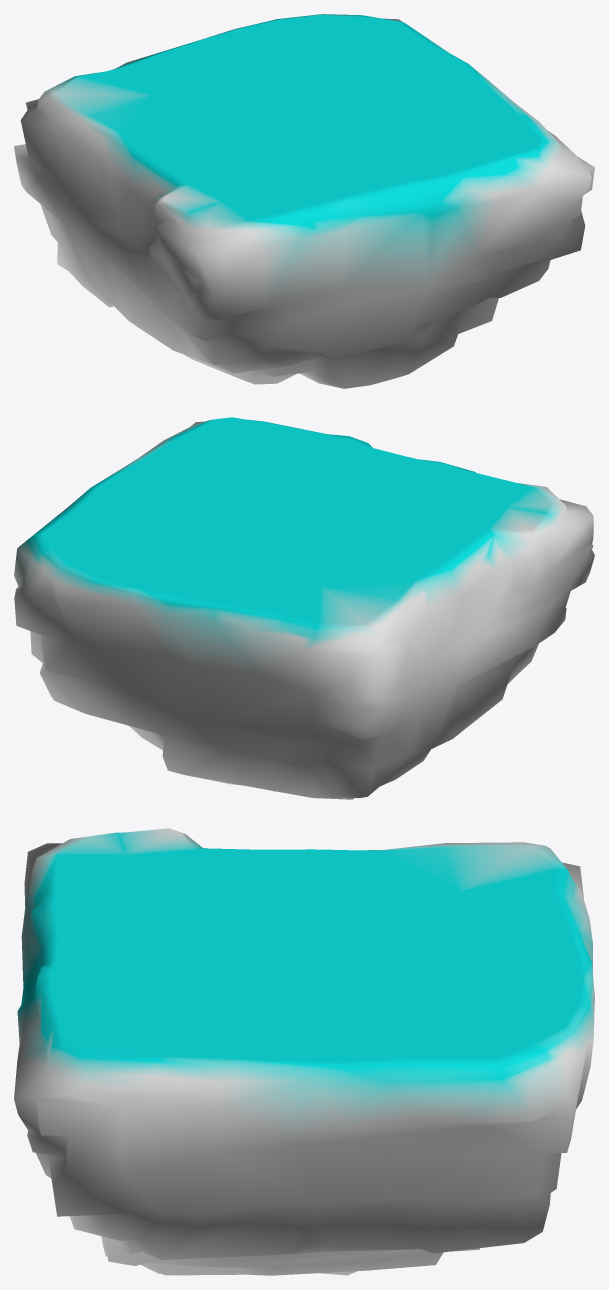
Rendered from Homeworld_Exterior_Common_Rockery_09_Lod0.fbx.
The picture shows the model from 3 angles, top to bottom: view 1: azimuth 30°, elevation 25°; view 2: azimuth 150°, elevation 25°; view 3: azimuth 270°, elevation 25°; orthographic projection. The views are drawn at different scales.
Visible parts, largest first — view 1: Homeworld_Exterior_Common_Rockery_09_Lod0; view 2: Homeworld_Exterior_Common_Rockery_09_Lod0; view 3: Homeworld_Exterior_Common_Rockery_09_Lod0.
Boxes of the visible parts, x1,y1,x2,y2 form: Homeworld_Exterior_Common_Rockery_09_Lod0: [14, 14, 594, 388]; Homeworld_Exterior_Common_Rockery_09_Lod0: [14, 417, 594, 799]; Homeworld_Exterior_Common_Rockery_09_Lod0: [14, 828, 594, 1275].
Size of what is drawn, in the model's own units: 15.95 by 8.41 by 15.32.
